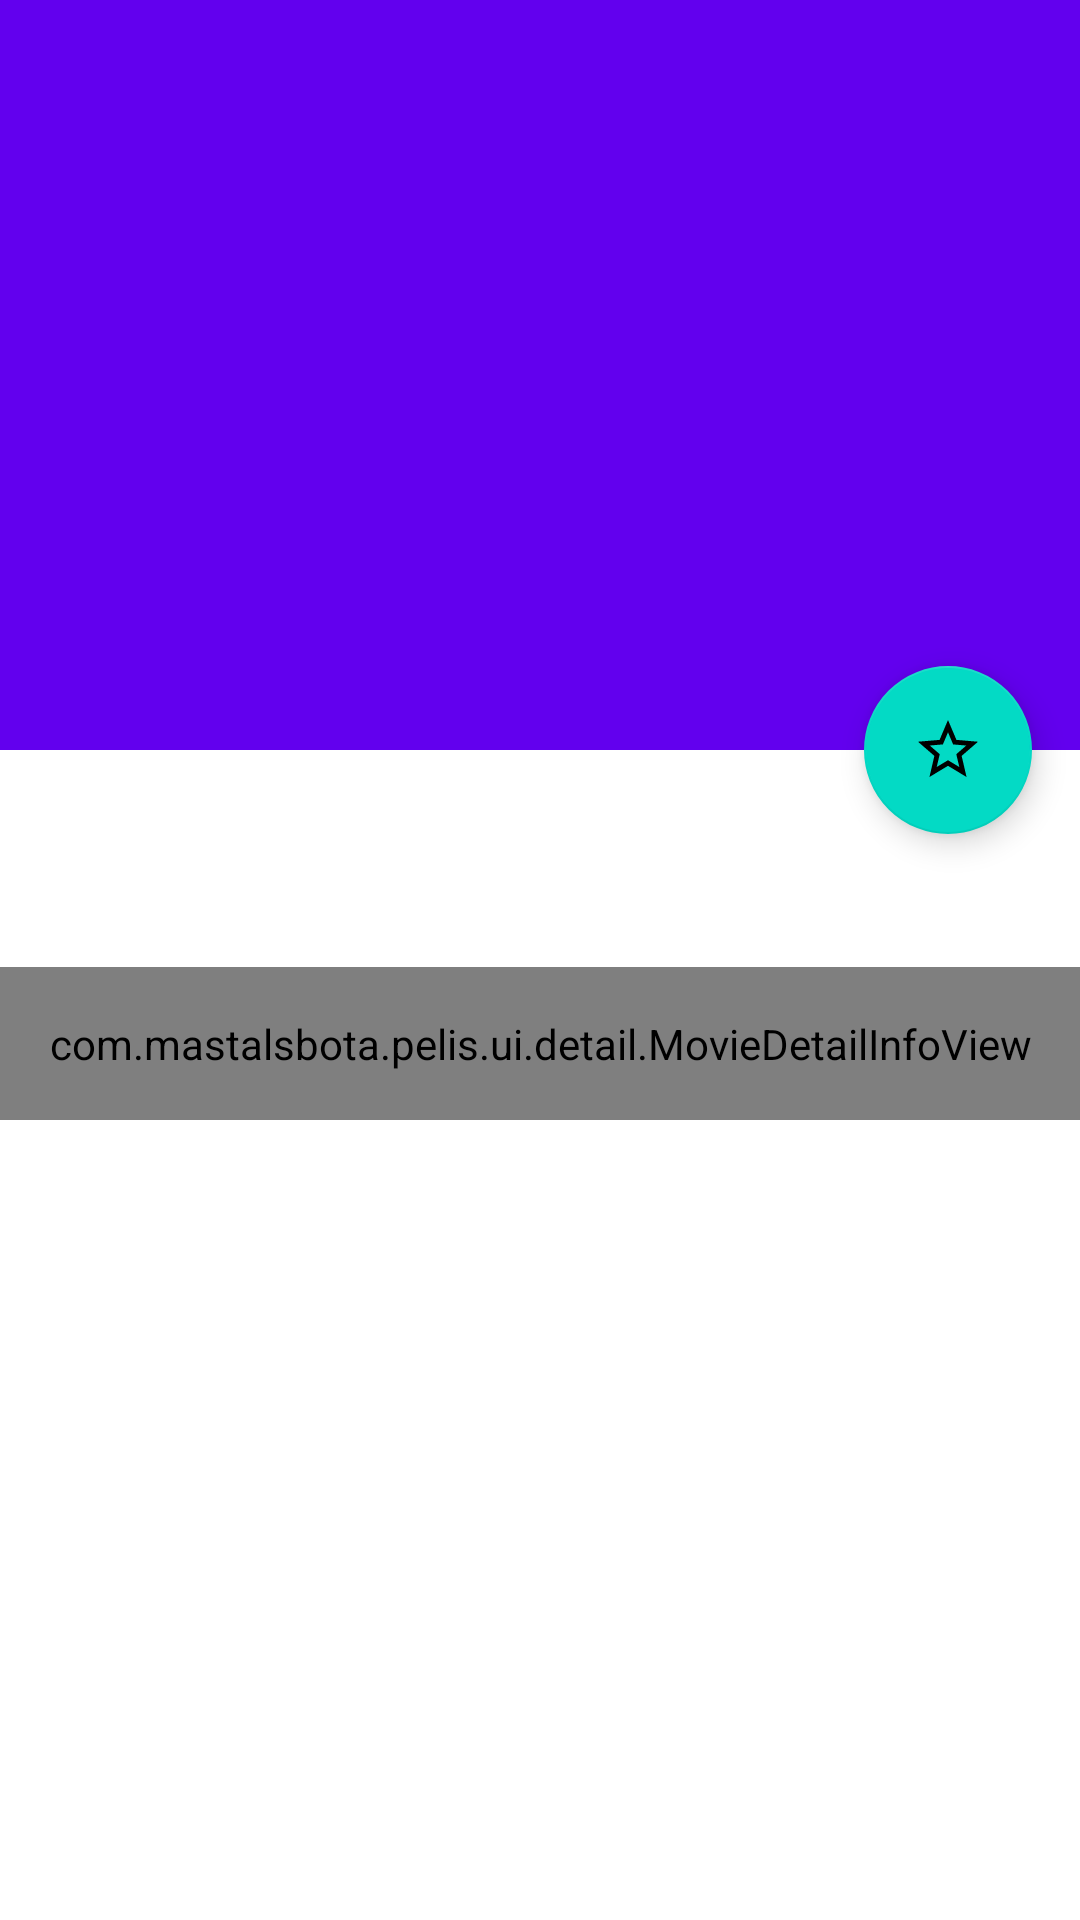

Icons on this 1080px x 1920px Android screen, each with the point to tap as [x,y]:
Favorite button: [948,750]
